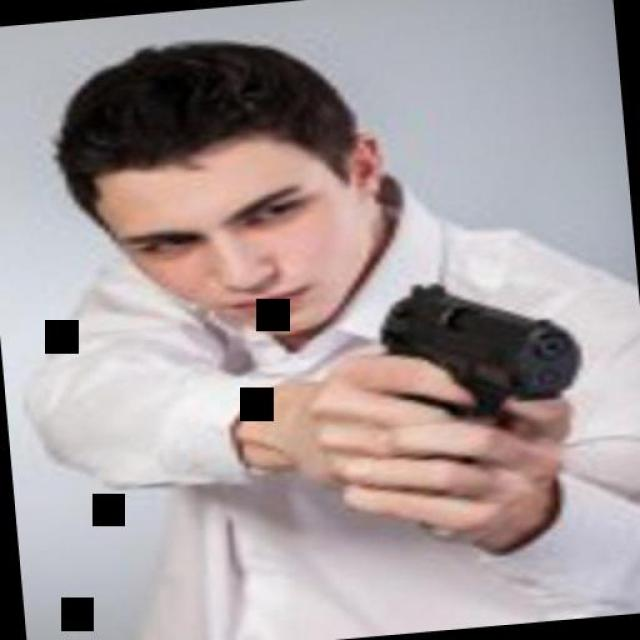gun: (352, 269, 588, 455)
